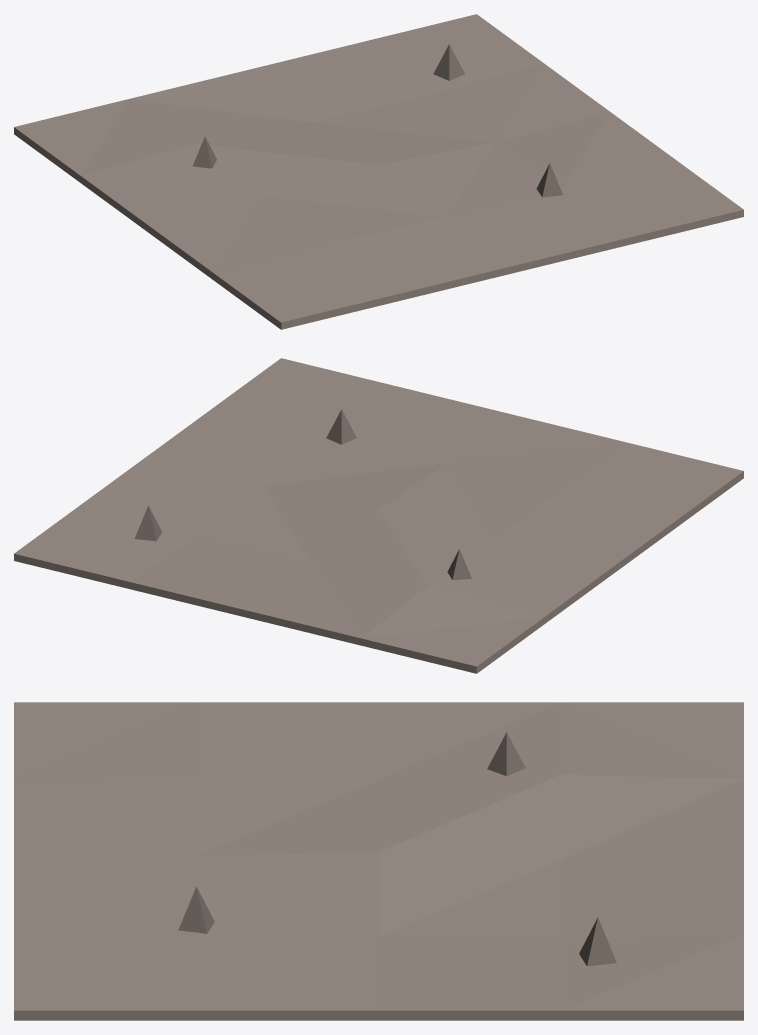
File: lantai_bukit_v001.glb
The picture shows the model from 3 angles, top to bottom: view 1: azimuth 30°, elevation 25°; view 2: azimuth 150°, elevation 25°; view 3: azimuth 270°, elevation 25°; orthographic projection. The views are drawn at different scales.
Parts seen in each view (by area): view 1: lantai_bukit; view 2: lantai_bukit; view 3: lantai_bukit.
Boxes of the visible parts, x1=… form: lantai_bukit: x1=14, y1=14, x2=743, y2=329; lantai_bukit: x1=14, y1=358, x2=743, y2=673; lantai_bukit: x1=14, y1=702, x2=743, y2=1020.
Bounding box in the file's own units: 4 × 0.3 × 4.
